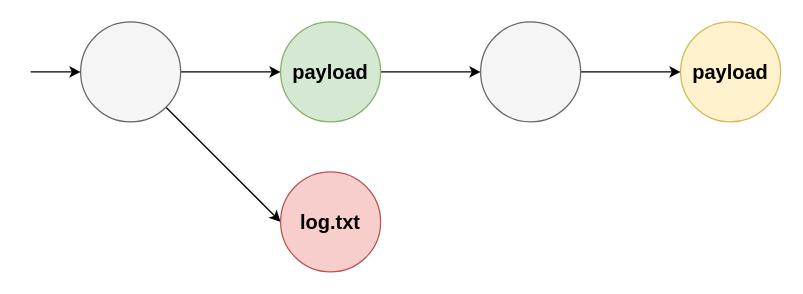
Some shapes in this 803 by 294 pixel diagram are drawn without their labels. Each missing label, with the centre of its shape:
log: (x=130, y=71)
summary: (x=530, y=71)
